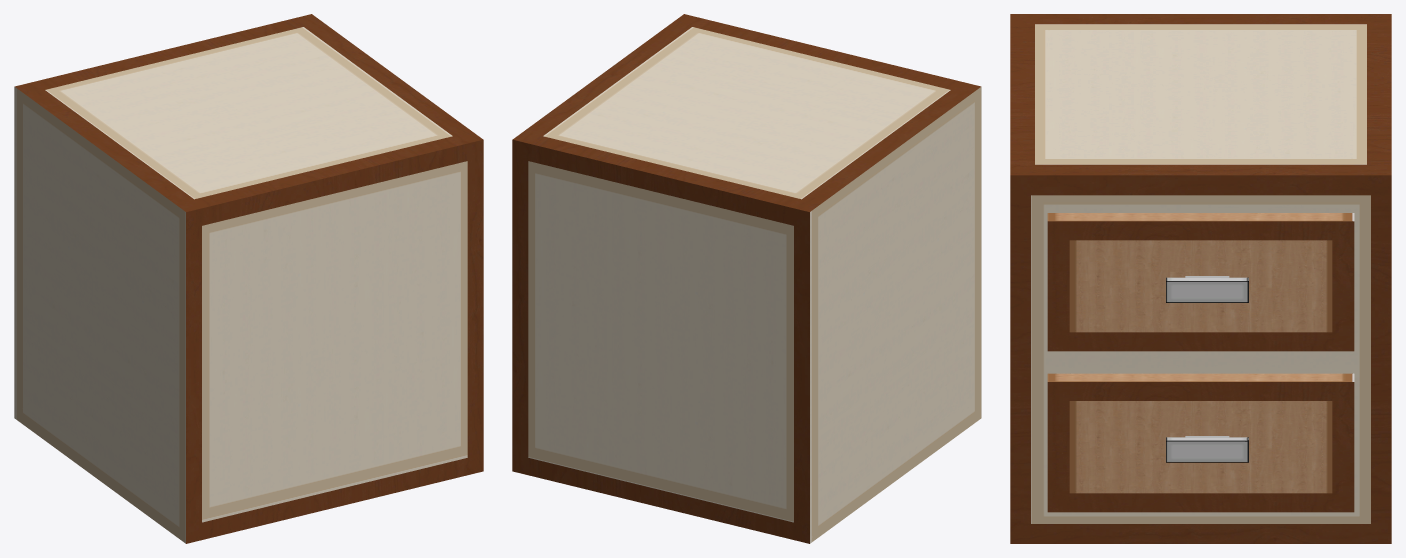
The model's file is Table_Bedside.fbx.
3 views of the same model, side by side, from view 1: azimuth 30°, elevation 25°; view 2: azimuth 150°, elevation 25°; view 3: azimuth 270°, elevation 25° (orthographic). The views are drawn at different scales.
Parts seen in each view (by area): view 1: Bedside_Table; view 2: Bedside_Table; view 3: Bedside_Table.
Boxes of the visible parts, x1,y1,x2,y2 form: Bedside_Table: (14, 14, 483, 543); Bedside_Table: (512, 14, 981, 543); Bedside_Table: (1010, 14, 1391, 543).
Size of the model in its own units: 71.35 by 68.29 by 64.05.
